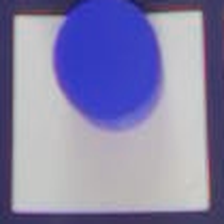cylinder: (47, 1, 184, 135)
